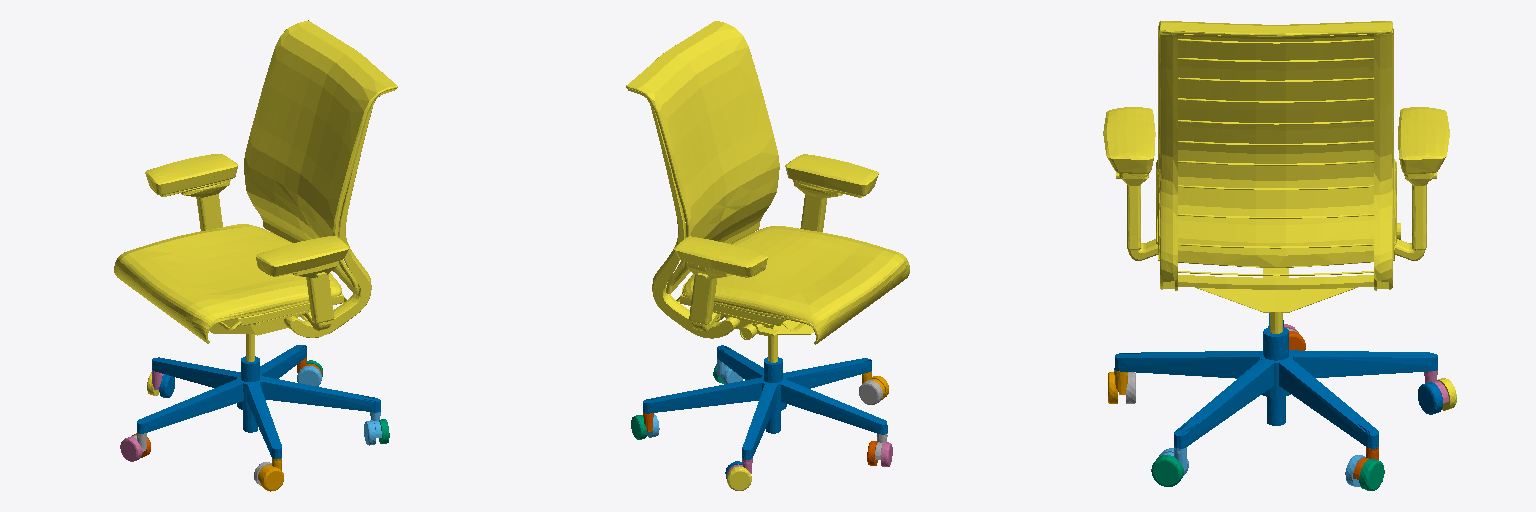
URDF robot description (partnet_740cc6d4d1c6901eadb91c074e672e22):
<?xml version="1.0" encoding="utf-8"?>
<robot name="partnet_740cc6d4d1c6901eadb91c074e672e22">
 <link name="base"/>
 <link name="link_0">
  <visual name="wheel-159">
   <origin xyz="-0.08362162349077178 0.773323 0.11626714897601595"/>
   <geometry>
    <mesh filename="textured_objs/original-24.obj"/>
   </geometry>
  </visual>
  <collision>
   <geometry>
    <mesh filename="cvx_objs/link_0.obj"/>
   </geometry>
  </collision>
 </link>
 <joint name="joint_0" type="continuous">
  <origin xyz="0.3965981234907718 -0.773323 0.23879835102398408"/>
  <axis xyz="0.8118346071406497 0 0.5838874640277759"/>
  <child link="link_0"/>
  <parent link="link_12"/>
 </joint>
 <link name="link_1">
  <visual name="wheel-160">
   <origin xyz="-0.08362162349077178 0.773323 0.11626714897601595"/>
   <geometry>
    <mesh filename="textured_objs/original-23.obj"/>
   </geometry>
  </visual>
  <collision>
   <geometry>
    <mesh filename="cvx_objs/link_1.obj"/>
   </geometry>
  </collision>
 </link>
 <joint name="joint_1" type="continuous">
  <origin xyz="0.3965981234907718 -0.773323 0.23879835102398408"/>
  <axis xyz="0.8118346071406497 0 0.5838874640277759"/>
  <child link="link_1"/>
  <parent link="link_12"/>
 </joint>
 <link name="link_2">
  <visual name="wheel-155">
   <origin xyz="0.08116105366099133 0.773323 0.11056907327472888"/>
   <geometry>
    <mesh filename="textured_objs/original-28.obj"/>
   </geometry>
  </visual>
  <collision>
   <geometry>
    <mesh filename="cvx_objs/link_2.obj"/>
   </geometry>
  </collision>
 </link>
 <joint name="joint_2" type="continuous">
  <origin xyz="0.4271959463390086 -0.773323 -0.3603415732747289"/>
  <axis xyz="-0.8061369857860847 0 0.5917289583480987"/>
  <child link="link_2"/>
  <parent link="link_13"/>
 </joint>
 <link name="link_3">
  <visual name="wheel-156">
   <origin xyz="0.08116105366099133 0.773323 0.11056907327472888"/>
   <geometry>
    <mesh filename="textured_objs/original-29.obj"/>
   </geometry>
  </visual>
  <collision>
   <geometry>
    <mesh filename="cvx_objs/link_3.obj"/>
   </geometry>
  </collision>
 </link>
 <joint name="joint_3" type="continuous">
  <origin xyz="0.4271959463390086 -0.773323 -0.3603415732747289"/>
  <axis xyz="-0.8061369857860847 0 0.5917289583480987"/>
  <child link="link_3"/>
  <parent link="link_13"/>
 </joint>
 <link name="link_4">
  <visual name="wheel-151">
   <origin xyz="0.21531610532380974 0.7733094419388357 -0.07109566572646701"/>
   <geometry>
    <mesh filename="textured_objs/original-16.obj"/>
   </geometry>
  </visual>
  <collision>
   <geometry>
    <mesh filename="cvx_objs/link_4.obj"/>
   </geometry>
  </collision>
 </link>
 <joint name="joint_4" type="continuous">
  <origin xyz="-0.22181860532380973 -0.7733094419388357 -0.551400334273533"/>
  <axis xyz="-0.3136109155063942 2.130859155745582e-05 -0.9495515748084384"/>
  <child link="link_4"/>
  <parent link="link_14"/>
 </joint>
 <link name="link_5">
  <visual name="wheel-152">
   <origin xyz="0.21531610532380974 0.7733094419388357 -0.07109566572646701"/>
   <geometry>
    <mesh filename="textured_objs/original-15.obj"/>
   </geometry>
  </visual>
  <collision>
   <geometry>
    <mesh filename="cvx_objs/link_5.obj"/>
   </geometry>
  </collision>
 </link>
 <joint name="joint_5" type="continuous">
  <origin xyz="-0.22181860532380973 -0.7733094419388357 -0.551400334273533"/>
  <axis xyz="-0.3136109155063942 2.130859155745582e-05 -0.9495515748084384"/>
  <child link="link_5"/>
  <parent link="link_14"/>
 </joint>
 <link name="link_6">
  <visual name="wheel-147">
   <origin xyz="-0.0013830351664696058 0.7733227964018106 -0.2882047684319045"/>
   <geometry>
    <mesh filename="textured_objs/original-19.obj"/>
   </geometry>
  </visual>
  <collision>
   <geometry>
    <mesh filename="cvx_objs/link_6.obj"/>
   </geometry>
  </collision>
 </link>
 <joint name="joint_6" type="continuous">
  <origin xyz="-0.5187009648335303 -0.7733227964018106 0.040191268431904514"/>
  <axis xyz="-0.9999884859895921 0 0.004798738192862558"/>
  <child link="link_6"/>
  <parent link="link_15"/>
 </joint>
 <link name="link_7">
  <visual name="wheel-148">
   <origin xyz="-0.0013830351664696058 0.7733227964018106 -0.2882047684319045"/>
   <geometry>
    <mesh filename="textured_objs/original-18.obj"/>
   </geometry>
  </visual>
  <collision>
   <geometry>
    <mesh filename="cvx_objs/link_7.obj"/>
   </geometry>
  </collision>
 </link>
 <joint name="joint_7" type="continuous">
  <origin xyz="-0.5187009648335303 -0.7733227964018106 0.040191268431904514"/>
  <axis xyz="-0.9999884859895921 0 0.004798738192862558"/>
  <child link="link_7"/>
  <parent link="link_15"/>
 </joint>
 <link name="link_8">
  <visual name="wheel-143">
   <origin xyz="-0.22537515511380776 0.7733263605818732 -0.07202219064451804"/>
   <geometry>
    <mesh filename="textured_objs/original-33.obj"/>
   </geometry>
  </visual>
  <collision>
   <geometry>
    <mesh filename="cvx_objs/link_8.obj"/>
   </geometry>
  </collision>
 </link>
 <joint name="joint_8" type="continuous">
  <origin xyz="-0.09725984488619224 -0.7733263605818732 0.42817519064451803"/>
  <axis xyz="0.30442303380704805 7.230351066753595e-06 -0.9525369370451915"/>
  <child link="link_8"/>
  <parent link="link_16"/>
 </joint>
 <link name="link_9">
  <visual name="wheel-144">
   <origin xyz="-0.22537515511380776 0.7733263605818732 -0.07202219064451804"/>
   <geometry>
    <mesh filename="textured_objs/original-34.obj"/>
   </geometry>
  </visual>
  <collision>
   <geometry>
    <mesh filename="cvx_objs/link_9.obj"/>
   </geometry>
  </collision>
 </link>
 <joint name="joint_9" type="continuous">
  <origin xyz="-0.09725984488619224 -0.7733263605818732 0.42817519064451803"/>
  <axis xyz="0.30442303380704805 7.230351066753595e-06 -0.9525369370451915"/>
  <child link="link_9"/>
  <parent link="link_16"/>
 </joint>
 <link name="link_10">
  <visual name="seat_hard_surface-200">
   <origin xyz="-0.005577500000000001 0 -0.0818125"/>
   <geometry>
    <mesh filename="textured_objs/original-3.obj"/>
   </geometry>
  </visual>
  <visual name="seat_hard_surface-200">
   <origin xyz="-0.005577500000000001 0 -0.0818125"/>
   <geometry>
    <mesh filename="textured_objs/original-50.obj"/>
   </geometry>
  </visual>
  <visual name="back_hard_surface-197">
   <origin xyz="-0.005577500000000001 0 -0.0818125"/>
   <geometry>
    <mesh filename="textured_objs/original-4.obj"/>
   </geometry>
  </visual>
  <visual name="back_hard_surface-197">
   <origin xyz="-0.005577500000000001 0 -0.0818125"/>
   <geometry>
    <mesh filename="textured_objs/original-70.obj"/>
   </geometry>
  </visual>
  <visual name="back_hard_surface-197">
   <origin xyz="-0.005577500000000001 0 -0.0818125"/>
   <geometry>
    <mesh filename="textured_objs/original-69.obj"/>
   </geometry>
  </visual>
  <visual name="back_hard_surface-197">
   <origin xyz="-0.005577500000000001 0 -0.0818125"/>
   <geometry>
    <mesh filename="textured_objs/original-68.obj"/>
   </geometry>
  </visual>
  <visual name="back_hard_surface-197">
   <origin xyz="-0.005577500000000001 0 -0.0818125"/>
   <geometry>
    <mesh filename="textured_objs/original-67.obj"/>
   </geometry>
  </visual>
  <visual name="back_hard_surface-197">
   <origin xyz="-0.005577500000000001 0 -0.0818125"/>
   <geometry>
    <mesh filename="textured_objs/original-66.obj"/>
   </geometry>
  </visual>
  <visual name="back_hard_surface-197">
   <origin xyz="-0.005577500000000001 0 -0.0818125"/>
   <geometry>
    <mesh filename="textured_objs/original-65.obj"/>
   </geometry>
  </visual>
  <visual name="back_hard_surface-197">
   <origin xyz="-0.005577500000000001 0 -0.0818125"/>
   <geometry>
    <mesh filename="textured_objs/original-71.obj"/>
   </geometry>
  </visual>
  <visual name="back_hard_surface-197">
   <origin xyz="-0.005577500000000001 0 -0.0818125"/>
   <geometry>
    <mesh filename="textured_objs/original-73.obj"/>
   </geometry>
  </visual>
  <visual name="back_hard_surface-197">
   <origin xyz="-0.005577500000000001 0 -0.0818125"/>
   <geometry>
    <mesh filename="textured_objs/original-74.obj"/>
   </geometry>
  </visual>
  <visual name="back_hard_surface-197">
   <origin xyz="-0.005577500000000001 0 -0.0818125"/>
   <geometry>
    <mesh filename="textured_objs/original-76.obj"/>
   </geometry>
  </visual>
  <visual name="back_hard_surface-197">
   <origin xyz="-0.005577500000000001 0 -0.0818125"/>
   <geometry>
    <mesh filename="textured_objs/original-75.obj"/>
   </geometry>
  </visual>
  <visual name="back_frame_vertical_bar-204">
   <origin xyz="-0.005577500000000001 0 -0.0818125"/>
   <geometry>
    <mesh filename="textured_objs/new-3.obj"/>
   </geometry>
  </visual>
  <visual name="back_frame_vertical_bar-205">
   <origin xyz="-0.005577500000000001 0 -0.0818125"/>
   <geometry>
    <mesh filename="textured_objs/new-2.obj"/>
   </geometry>
  </visual>
  <visual name="back_connector-206">
   <origin xyz="-0.005577500000000001 0 -0.0818125"/>
   <geometry>
    <mesh filename="textured_objs/new-0.obj"/>
   </geometry>
  </visual>
  <visual name="back_connector-206">
   <origin xyz="-0.005577500000000001 0 -0.0818125"/>
   <geometry>
    <mesh filename="textured_objs/original-72.obj"/>
   </geometry>
  </visual>
  <visual name="back_connector-206">
   <origin xyz="-0.005577500000000001 0 -0.0818125"/>
   <geometry>
    <mesh filename="textured_objs/new-1.obj"/>
   </geometry>
  </visual>
  <visual name="armrest_soft_surface-85">
   <origin xyz="-0.005577500000000001 0 -0.0818125"/>
   <geometry>
    <mesh filename="textured_objs/original-60.obj"/>
   </geometry>
  </visual>
  <visual name="armrest_soft_surface-85">
   <origin xyz="-0.005577500000000001 0 -0.0818125"/>
   <geometry>
    <mesh filename="textured_objs/original-1.obj"/>
   </geometry>
  </visual>
  <visual name="arm_vertical_bar-86">
   <origin xyz="-0.005577500000000001 0 -0.0818125"/>
   <geometry>
    <mesh filename="textured_objs/original-57.obj"/>
   </geometry>
  </visual>
  <visual name="arm_vertical_bar-86">
   <origin xyz="-0.005577500000000001 0 -0.0818125"/>
   <geometry>
    <mesh filename="textured_objs/original-55.obj"/>
   </geometry>
  </visual>
  <visual name="arm_connector-87">
   <origin xyz="-0.005577500000000001 0 -0.0818125"/>
   <geometry>
    <mesh filename="textured_objs/original-61.obj"/>
   </geometry>
  </visual>
  <visual name="armrest_soft_surface-82">
   <origin xyz="-0.005577500000000001 0 -0.0818125"/>
   <geometry>
    <mesh filename="textured_objs/original-59.obj"/>
   </geometry>
  </visual>
  <visual name="armrest_soft_surface-82">
   <origin xyz="-0.005577500000000001 0 -0.0818125"/>
   <geometry>
    <mesh filename="textured_objs/original-2.obj"/>
   </geometry>
  </visual>
  <visual name="arm_vertical_bar-83">
   <origin xyz="-0.005577500000000001 0 -0.0818125"/>
   <geometry>
    <mesh filename="textured_objs/original-54.obj"/>
   </geometry>
  </visual>
  <visual name="arm_vertical_bar-83">
   <origin xyz="-0.005577500000000001 0 -0.0818125"/>
   <geometry>
    <mesh filename="textured_objs/original-56.obj"/>
   </geometry>
  </visual>
  <visual name="arm_connector-84">
   <origin xyz="-0.005577500000000001 0 -0.0818125"/>
   <geometry>
    <mesh filename="textured_objs/original-58.obj"/>
   </geometry>
  </visual>
  <visual name="central_support-192">
   <origin xyz="-0.005577500000000001 0 -0.0818125"/>
   <geometry>
    <mesh filename="textured_objs/original-13.obj"/>
   </geometry>
  </visual>
  <visual name="central_support-192">
   <origin xyz="-0.005577500000000001 0 -0.0818125"/>
   <geometry>
    <mesh filename="textured_objs/original-35.obj"/>
   </geometry>
  </visual>
  <visual name="seat_connector-198">
   <origin xyz="-0.005577500000000001 0 -0.0818125"/>
   <geometry>
    <mesh filename="textured_objs/original-9.obj"/>
   </geometry>
  </visual>
  <visual name="seat_connector-198">
   <origin xyz="-0.005577500000000001 0 -0.0818125"/>
   <geometry>
    <mesh filename="textured_objs/original-52.obj"/>
   </geometry>
  </visual>
  <visual name="seat_connector-198">
   <origin xyz="-0.005577500000000001 0 -0.0818125"/>
   <geometry>
    <mesh filename="textured_objs/original-12.obj"/>
   </geometry>
  </visual>
  <visual name="seat_connector-198">
   <origin xyz="-0.005577500000000001 0 -0.0818125"/>
   <geometry>
    <mesh filename="textured_objs/original-8.obj"/>
   </geometry>
  </visual>
  <visual name="seat_connector-198">
   <origin xyz="-0.005577500000000001 0 -0.0818125"/>
   <geometry>
    <mesh filename="textured_objs/original-14.obj"/>
   </geometry>
  </visual>
  <visual name="seat_connector-198">
   <origin xyz="-0.005577500000000001 0 -0.0818125"/>
   <geometry>
    <mesh filename="textured_objs/original-10.obj"/>
   </geometry>
  </visual>
  <visual name="seat_connector-198">
   <origin xyz="-0.005577500000000001 0 -0.0818125"/>
   <geometry>
    <mesh filename="textured_objs/original-53.obj"/>
   </geometry>
  </visual>
  <visual name="seat_connector-198">
   <origin xyz="-0.005577500000000001 0 -0.0818125"/>
   <geometry>
    <mesh filename="textured_objs/original-51.obj"/>
   </geometry>
  </visual>
  <visual name="seat_connector-198">
   <origin xyz="-0.005577500000000001 0 -0.0818125"/>
   <geometry>
    <mesh filename="textured_objs/original-11.obj"/>
   </geometry>
  </visual>
  <visual name="seat_connector-198">
   <origin xyz="-0.005577500000000001 0 -0.0818125"/>
   <geometry>
    <mesh filename="textured_objs/original-63.obj"/>
   </geometry>
  </visual>
  <visual name="seat_connector-198">
   <origin xyz="-0.005577500000000001 0 -0.0818125"/>
   <geometry>
    <mesh filename="textured_objs/original-64.obj"/>
   </geometry>
  </visual>
  <visual name="seat_connector-198">
   <origin xyz="-0.005577500000000001 0 -0.0818125"/>
   <geometry>
    <mesh filename="textured_objs/original-62.obj"/>
   </geometry>
  </visual>
  <visual name="seat_connector-198">
   <origin xyz="-0.005577500000000001 0 -0.0818125"/>
   <geometry>
    <mesh filename="textured_objs/original-6.obj"/>
   </geometry>
  </visual>
  <visual name="seat_connector-198">
   <origin xyz="-0.005577500000000001 0 -0.0818125"/>
   <geometry>
    <mesh filename="textured_objs/original-7.obj"/>
   </geometry>
  </visual>
  <collision>
   <geometry>
    <mesh filename="cvx_objs/link_10.obj"/>
   </geometry>
  </collision>
 </link>
 <joint name="joint_10" type="continuous">
  <origin xyz="0.0 0 0.0"/>
  <axis xyz="0 -1 0"/>
  <child link="link_10"/>
  <parent link="link_10_helper"/>
 </joint>
 <link name="link_11">
  <visual name="central_support-190">
   <origin xyz="0 0 0"/>
   <geometry>
    <mesh filename="textured_objs/original-37.obj"/>
   </geometry>
  </visual>
  <visual name="central_support-190">
   <origin xyz="0 0 0"/>
   <geometry>
    <mesh filename="textured_objs/original-40.obj"/>
   </geometry>
  </visual>
  <visual name="central_support-190">
   <origin xyz="0 0 0"/>
   <geometry>
    <mesh filename="textured_objs/original-39.obj"/>
   </geometry>
  </visual>
  <visual name="central_support-191">
   <origin xyz="0 0 0"/>
   <geometry>
    <mesh filename="textured_objs/original-36.obj"/>
   </geometry>
  </visual>
  <visual name="leg-131">
   <origin xyz="0 0 0"/>
   <geometry>
    <mesh filename="textured_objs/original-42.obj"/>
   </geometry>
  </visual>
  <visual name="leg-132">
   <origin xyz="0 0 0"/>
   <geometry>
    <mesh filename="textured_objs/original-41.obj"/>
   </geometry>
  </visual>
  <visual name="leg-133">
   <origin xyz="0 0 0"/>
   <geometry>
    <mesh filename="textured_objs/original-43.obj"/>
   </geometry>
  </visual>
  <visual name="leg-134">
   <origin xyz="0 0 0"/>
   <geometry>
    <mesh filename="textured_objs/original-47.obj"/>
   </geometry>
  </visual>
  <visual name="leg-135">
   <origin xyz="0 0 0"/>
   <geometry>
    <mesh filename="textured_objs/original-44.obj"/>
   </geometry>
  </visual>
  <collision>
   <geometry>
    <mesh filename="cvx_objs/link_11.obj"/>
   </geometry>
  </collision>
 </link>
 <joint name="joint_11" type="fixed">
  <origin rpy="1.570796326794897 0 -1.570796326794897" xyz="0 0 0"/>
  <child link="link_11"/>
  <parent link="base"/>
 </joint>
 <link name="link_12">
  <visual name="caster_yoke-157">
   <origin xyz="0.3129765 0 0.35506550000000003"/>
   <geometry>
    <mesh filename="textured_objs/original-25.obj"/>
   </geometry>
  </visual>
  <visual name="caster_stem-158">
   <origin xyz="0.3129765 0 0.35506550000000003"/>
   <geometry>
    <mesh filename="textured_objs/original-22.obj"/>
   </geometry>
  </visual>
  <visual name="caster_stem-158">
   <origin xyz="0.3129765 0 0.35506550000000003"/>
   <geometry>
    <mesh filename="textured_objs/original-45.obj"/>
   </geometry>
  </visual>
  <collision>
   <geometry>
    <mesh filename="cvx_objs/link_12.obj"/>
   </geometry>
  </collision>
 </link>
 <joint name="joint_12" type="continuous">
  <origin xyz="-0.3129765 0 -0.35506550000000003"/>
  <axis xyz="0 1 0"/>
  <child link="link_12"/>
  <parent link="link_11"/>
 </joint>
 <link name="link_13">
  <visual name="caster_yoke-153">
   <origin xyz="0.508357 0 -0.2497725"/>
   <geometry>
    <mesh filename="textured_objs/original-31.obj"/>
   </geometry>
  </visual>
  <visual name="caster_stem-154">
   <origin xyz="0.508357 0 -0.2497725"/>
   <geometry>
    <mesh filename="textured_objs/original-27.obj"/>
   </geometry>
  </visual>
  <visual name="caster_stem-154">
   <origin xyz="0.508357 0 -0.2497725"/>
   <geometry>
    <mesh filename="textured_objs/original-49.obj"/>
   </geometry>
  </visual>
  <collision>
   <geometry>
    <mesh filename="cvx_objs/link_13.obj"/>
   </geometry>
  </collision>
 </link>
 <joint name="joint_13" type="continuous">
  <origin xyz="-0.508357 0 0.2497725"/>
  <axis xyz="0 1 0"/>
  <child link="link_13"/>
  <parent link="link_11"/>
 </joint>
 <link name="link_14">
  <visual name="caster_yoke-149">
   <origin xyz="-0.0065025 0 -0.6224959999999999"/>
   <geometry>
    <mesh filename="textured_objs/original-26.obj"/>
   </geometry>
  </visual>
  <visual name="caster_stem-150">
   <origin xyz="-0.0065025 0 -0.6224959999999999"/>
   <geometry>
    <mesh filename="textured_objs/original-30.obj"/>
   </geometry>
  </visual>
  <visual name="caster_stem-150">
   <origin xyz="-0.0065025 0 -0.6224959999999999"/>
   <geometry>
    <mesh filename="textured_objs/original-46.obj"/>
   </geometry>
  </visual>
  <collision>
   <geometry>
    <mesh filename="cvx_objs/link_14.obj"/>
   </geometry>
  </collision>
 </link>
 <joint name="joint_14" type="continuous">
  <origin xyz="0.0065025 0 0.6224959999999999"/>
  <axis xyz="0 1 0"/>
  <child link="link_14"/>
  <parent link="link_11"/>
 </joint>
 <link name="link_15">
  <visual name="caster_yoke-145">
   <origin xyz="-0.520084 0 -0.2480135"/>
   <geometry>
    <mesh filename="textured_objs/original-20.obj"/>
   </geometry>
  </visual>
  <visual name="caster_stem-146">
   <origin xyz="-0.520084 0 -0.2480135"/>
   <geometry>
    <mesh filename="textured_objs/original-17.obj"/>
   </geometry>
  </visual>
  <visual name="caster_stem-146">
   <origin xyz="-0.520084 0 -0.2480135"/>
   <geometry>
    <mesh filename="textured_objs/original-38.obj"/>
   </geometry>
  </visual>
  <collision>
   <geometry>
    <mesh filename="cvx_objs/link_15.obj"/>
   </geometry>
  </collision>
 </link>
 <joint name="joint_15" type="continuous">
  <origin xyz="0.520084 0 0.2480135"/>
  <axis xyz="0 1 0"/>
  <child link="link_15"/>
  <parent link="link_11"/>
 </joint>
 <link name="link_16">
  <visual name="caster_yoke-141">
   <origin xyz="-0.322635 0 0.356153"/>
   <geometry>
    <mesh filename="textured_objs/original-32.obj"/>
   </geometry>
  </visual>
  <visual name="caster_stem-142">
   <origin xyz="-0.322635 0 0.356153"/>
   <geometry>
    <mesh filename="textured_objs/original-21.obj"/>
   </geometry>
  </visual>
  <visual name="caster_stem-142">
   <origin xyz="-0.322635 0 0.356153"/>
   <geometry>
    <mesh filename="textured_objs/original-48.obj"/>
   </geometry>
  </visual>
  <collision>
   <geometry>
    <mesh filename="cvx_objs/link_16.obj"/>
   </geometry>
  </collision>
 </link>
 <joint name="joint_16" type="continuous">
  <origin xyz="0.322635 0 -0.356153"/>
  <axis xyz="0 1 0"/>
  <child link="link_16"/>
  <parent link="link_11"/>
 </joint>
 <link name="link_10_helper"/>
 <joint name="joint_17" type="prismatic">
  <origin xyz="0.005577500000000001 0 0.0818125"/>
  <axis xyz="0 -1 0"/>
  <child link="link_10_helper"/>
  <parent link="link_11"/>
  <limit lower="0" upper="0.1120000000000001"/>
 </joint>
</robot>

--- Facts derived from the render (not from the file) ---
The picture shows the robot from 3 angles, left to right: view 1: azimuth 30°, elevation 25°; view 2: azimuth 150°, elevation 25°; view 3: azimuth 270°, elevation 25°; orthographic projection.
Model partnet_740cc6d4d1c6901eadb91c074e672e22 with 19 links and 18 joints (16 continuous, 1 prismatic, 1 fixed), rooted at base, posed all joints at 0.
Links seen in each view (by area): view 1: link_10, link_11; view 2: link_10, link_11; view 3: link_10, link_11, link_9, link_3, link_1.
Boxes of the visible links, left/top/right/bottom form: link_10: left=114, top=20, right=397, bottom=361; link_11: left=137, top=345, right=380, bottom=458; link_10: left=626, top=21, right=909, bottom=362; link_11: left=643, top=345, right=887, bottom=459; link_10: left=1103, top=21, right=1449, bottom=333; link_11: left=1114, top=313, right=1437, bottom=448; link_9: left=1151, top=455, right=1183, bottom=486; link_3: left=1418, top=382, right=1442, bottom=414; link_1: left=1359, top=459, right=1384, bottom=490.
Size in the robot's own frame: 1.15 by 1.17 by 1.7 metres.
79 mesh visuals loaded from 79 distinct referenced files (79 OBJ).
